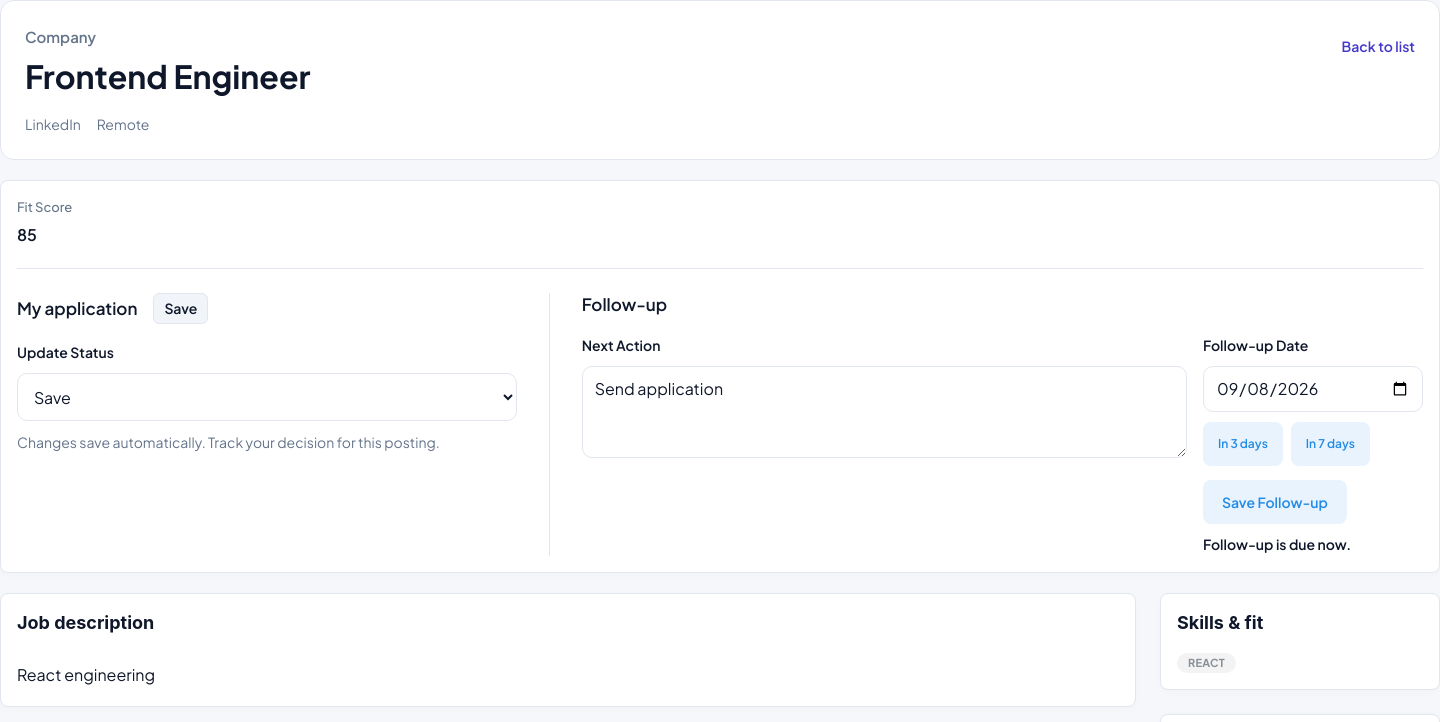
Test: saves the status from the labeled selector and confirms the saved choice
The image size is (1440, 722).
Select "Expired" in the dropdown labelled "Update Status" at (267, 397), box [17, 373, 517, 421]
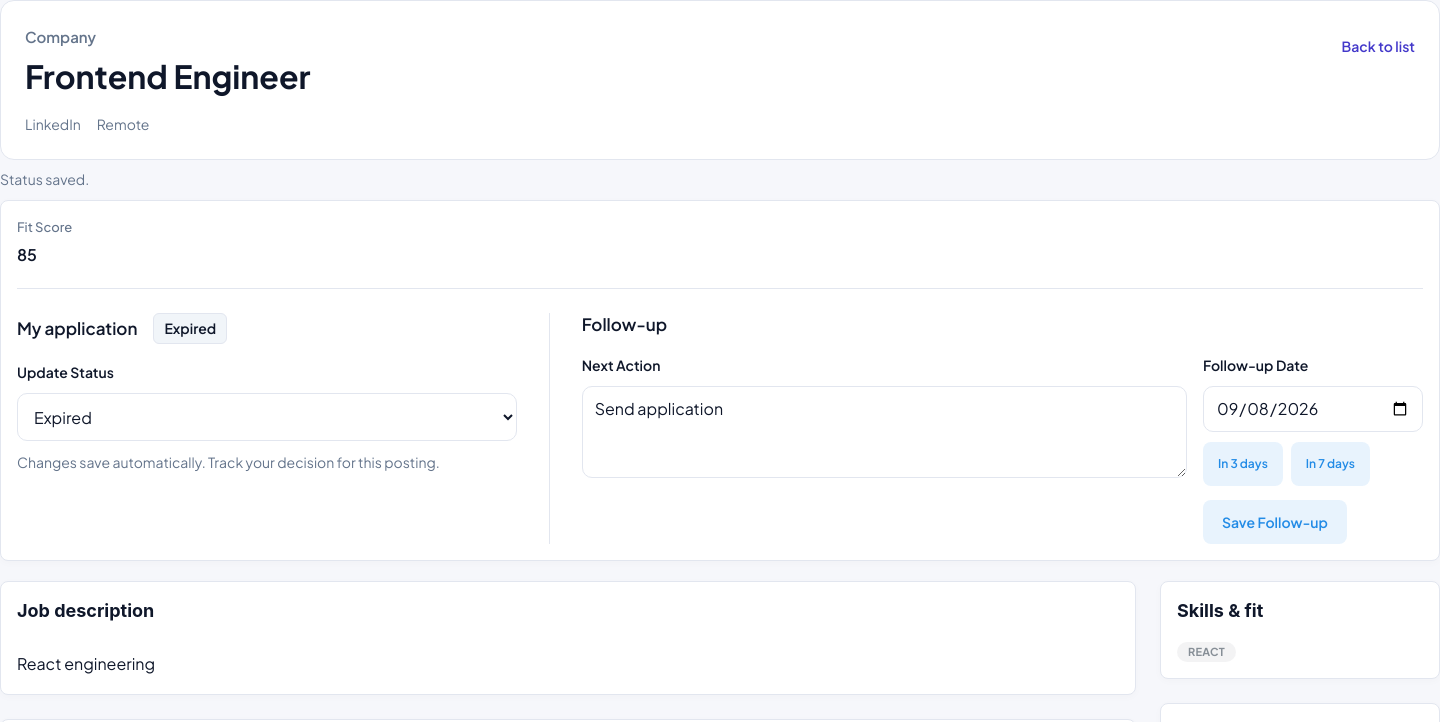
Result: the message reads "Status saved." at [0, 170, 89, 188]
